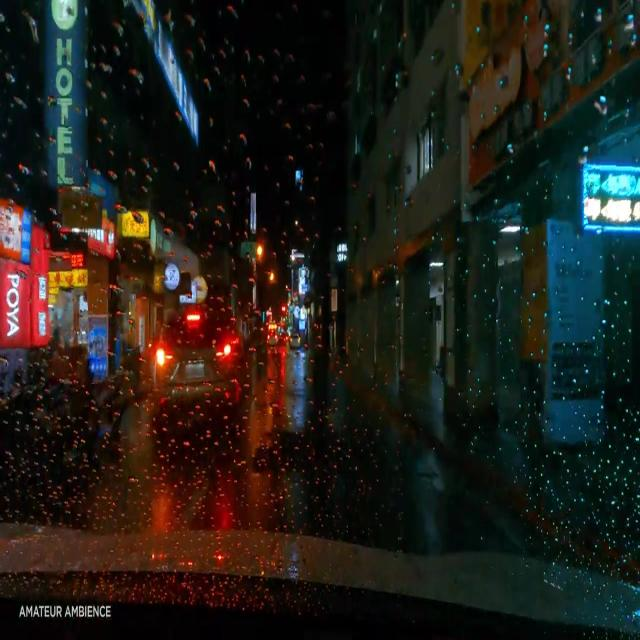Car: (155, 304, 244, 443)
